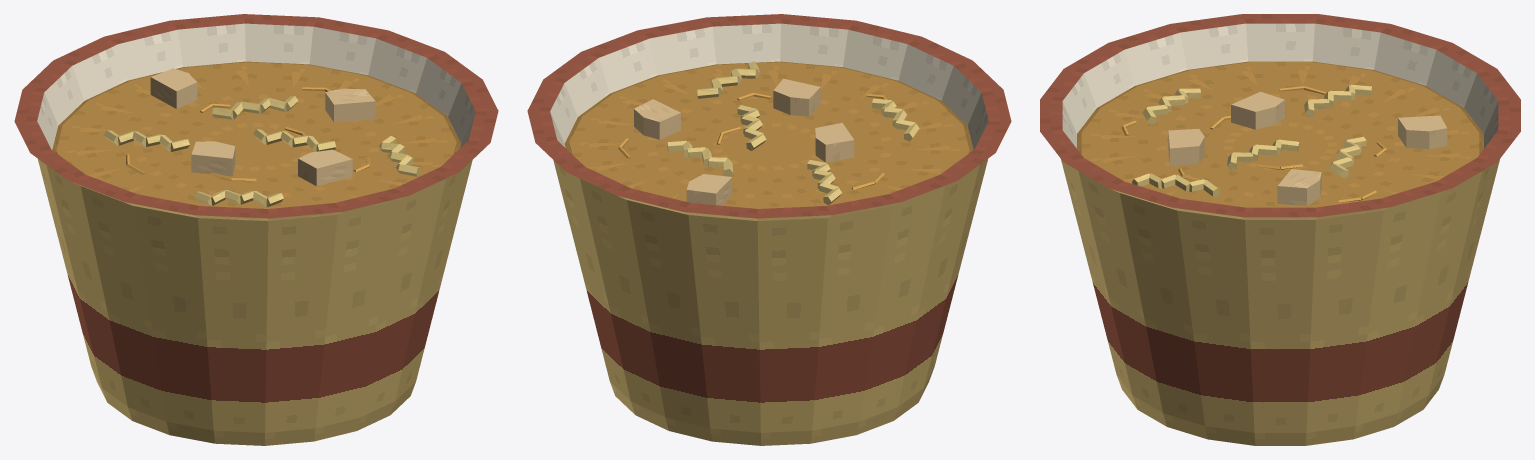
File: soup_instant_chicken_noodle_prepared.glb
The picture shows the model from 3 angles, left to right: view 1: azimuth 30°, elevation 25°; view 2: azimuth 150°, elevation 25°; view 3: azimuth 270°, elevation 25°; orthographic projection.
Parts seen in each view (by area): view 1: block_tapered instant soup cup, block_soup surface, block_chicken piece (×4), block_shaded liquid meniscus; view 2: block_tapered instant soup cup, block_soup surface, block_chicken piece (×4), block_shaded liquid meniscus; view 3: block_tapered instant soup cup, block_soup surface, block_chicken piece (×4), block_shaded liquid meniscus.
Boxes of the visible parts, left/top/right/bottom form: block_tapered instant soup cup: left=14, top=14, right=498, bottom=445; block_soup surface: left=56, top=62, right=456, bottom=208; block_chicken piece (×4): left=150, top=68, right=375, bottom=186; block_shaded liquid meniscus: left=52, top=61, right=461, bottom=153; block_tapered instant soup cup: left=527, top=14, right=1011, bottom=445; block_soup surface: left=569, top=62, right=969, bottom=208; block_chicken piece (×4): left=634, top=78, right=854, bottom=205; block_shaded liquid meniscus: left=564, top=61, right=973, bottom=153; block_tapered instant soup cup: left=1040, top=14, right=1520, bottom=445; block_soup surface: left=1081, top=62, right=1479, bottom=207; block_chicken piece (×4): left=1168, top=91, right=1447, bottom=205; block_shaded liquid meniscus: left=1077, top=61, right=1483, bottom=154.
Size of the model in its own units: 0.1003 by 0.0606 by 0.1003.
Materials: 1 (1 with a texture image).
